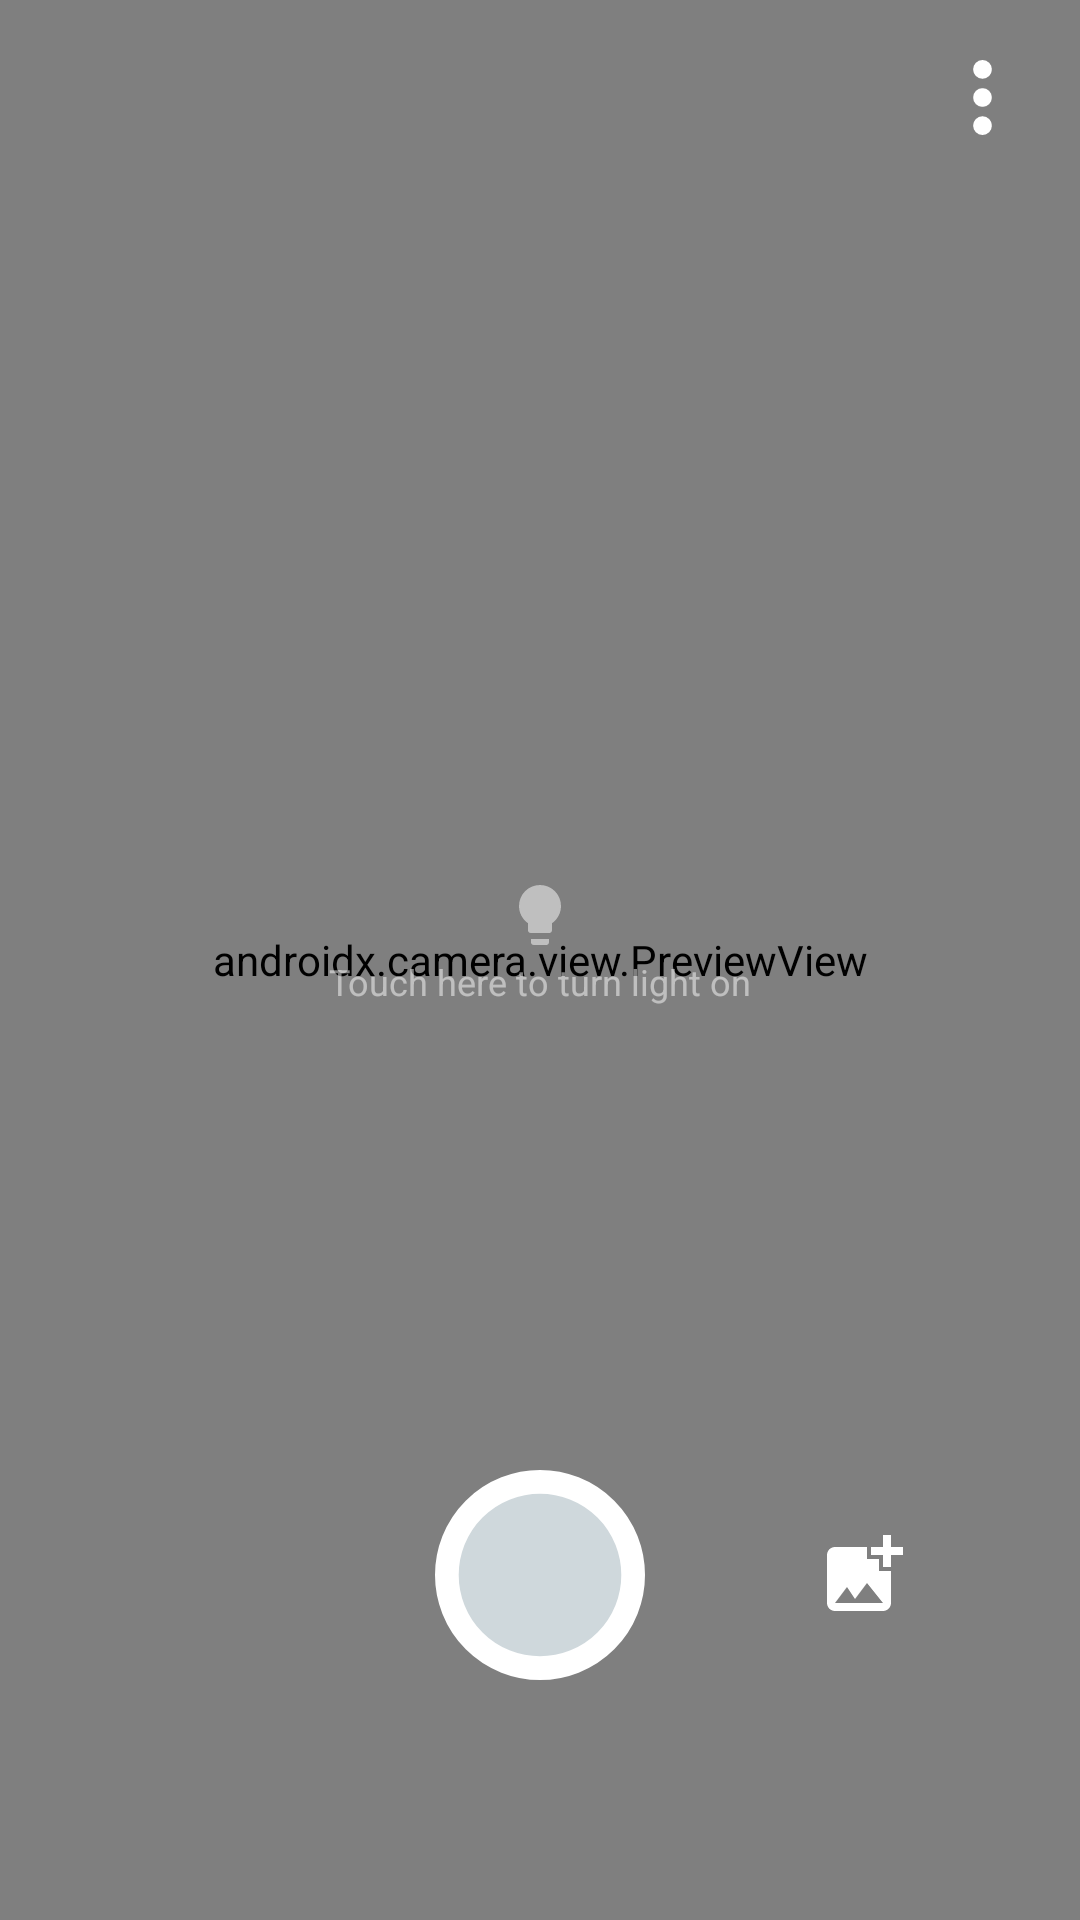

Icon bounding boxes for this 1080x1920 phone screenshot, format bbox(x1, y1, x2, y2):
add photo: bbox(827, 1535, 903, 1611)
lightbulb: bbox(519, 885, 566, 950)
menu: bbox(973, 60, 992, 135)
